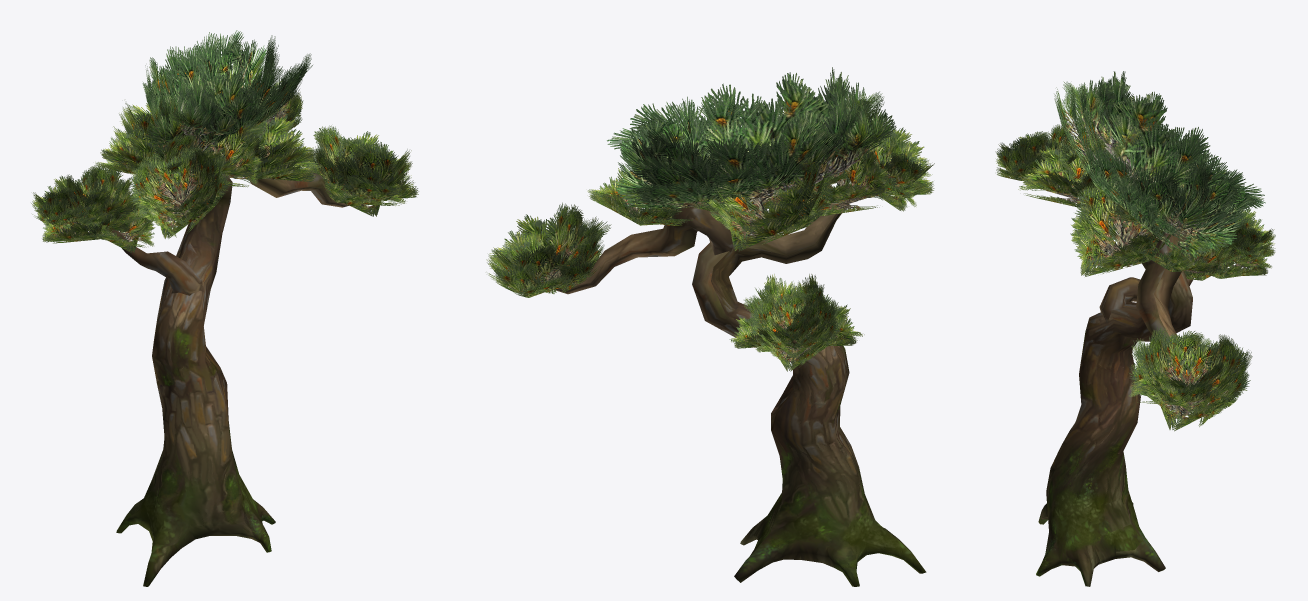
Rendered from jintf_tree_01c.FBX.
3 views of the same model, side by side, from view 1: azimuth 30°, elevation 25°; view 2: azimuth 150°, elevation 25°; view 3: azimuth 270°, elevation 25° (orthographic). The views are drawn at different scales.
Visible parts, largest first — view 1: jintf_tree_01c; view 2: jintf_tree_01c; view 3: jintf_tree_01c.
Part boxes in pixels (x1,y1,x2,y2): jintf_tree_01c: (31, 30, 418, 586); jintf_tree_01c: (486, 67, 934, 586); jintf_tree_01c: (995, 71, 1275, 586).
Bounding box in the file's own units: 722 × 959 × 517.
